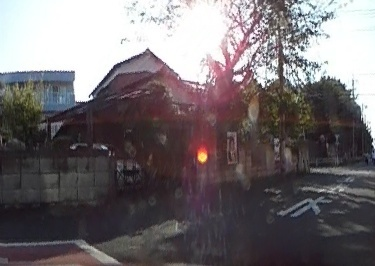person: (363, 150, 369, 163), (371, 149, 375, 165)
